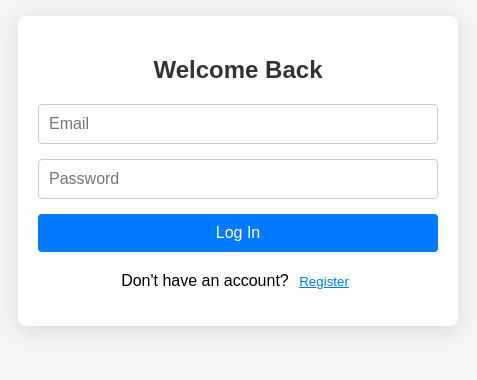
Test: Login Component › shows an error message for invalid login
The width and height of the screenshot is (477, 380).
Type "test@example.com" into the field with placeholder "Email" at (238, 124), box [38,104,438,144]
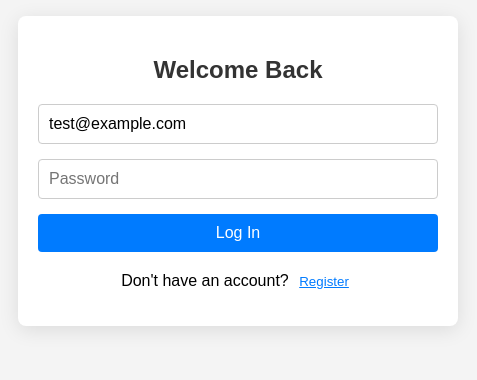
Type "InvalidPassword" into the password field with placeholder "Password" at (238, 179), box [38,159,438,199]
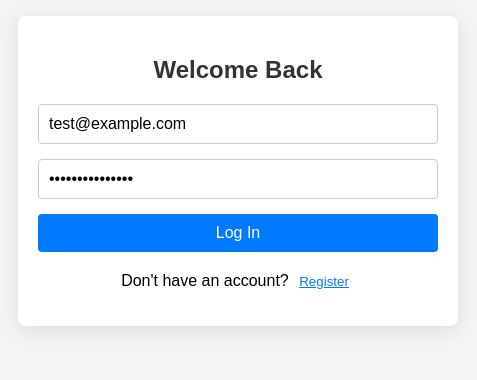
Click the button "Log In" at (238, 233), box [38,214,438,252]
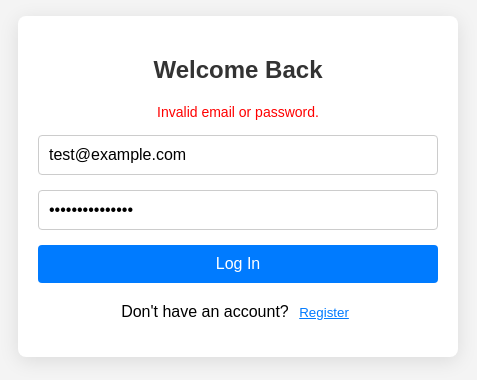
Check: the text "Invalid email or password." is shown, box [157,104,319,120]
